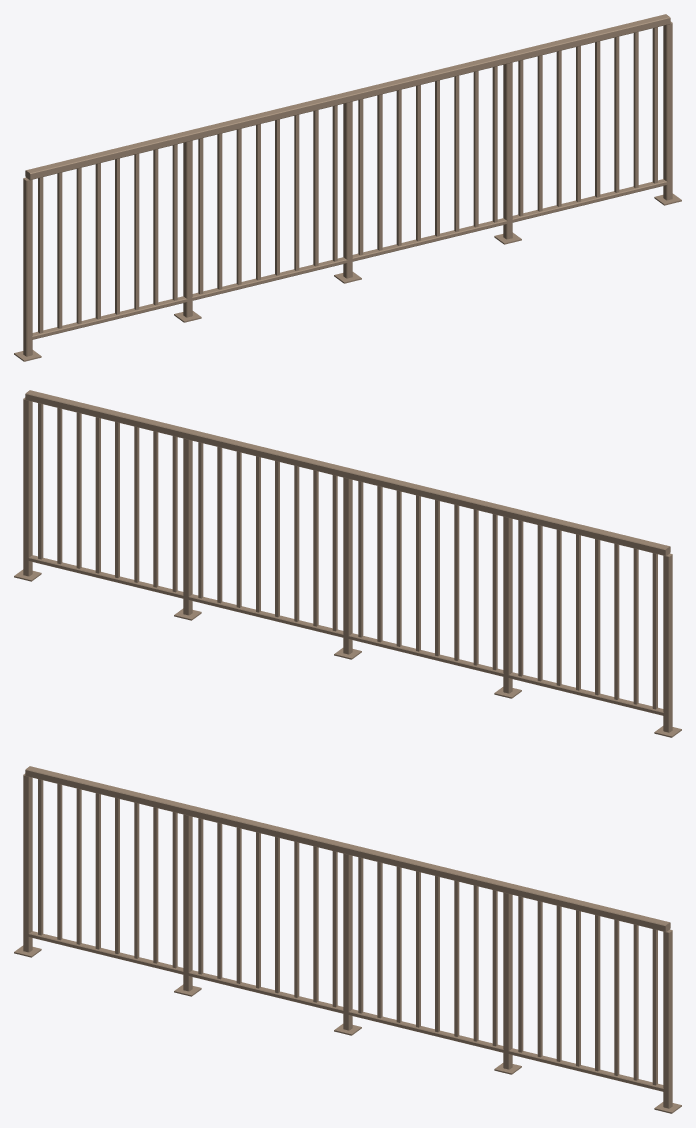
File: gc-s80b-barreaudage-400-quartz-1019.glb
3 views of the same model, one above another, from view 1: azimuth 30°, elevation 25°; view 2: azimuth 150°, elevation 25°; view 3: azimuth 330°, elevation 25° (orthographic).
Parts seen in each view (by area): view 1: structure; view 2: structure; view 3: structure.
Part boxes in pixels (x1,y1,x2,y2): structure: (14,14,681,361); structure: (14,390,681,737); structure: (14,766,681,1113).
Bounding box in the file's own units: 4.11 × 1.1 × 0.11.
